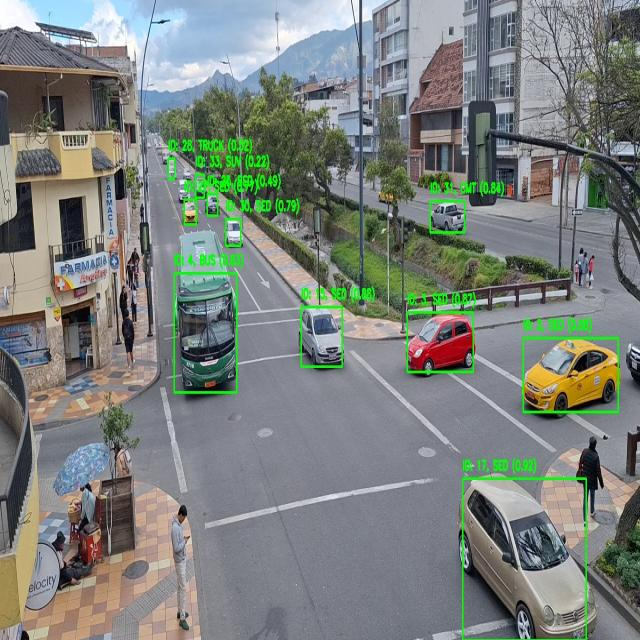BUS: (174, 231, 238, 391)
SED: (458, 480, 598, 638), (524, 340, 620, 414), (408, 313, 474, 370), (299, 307, 344, 367)
